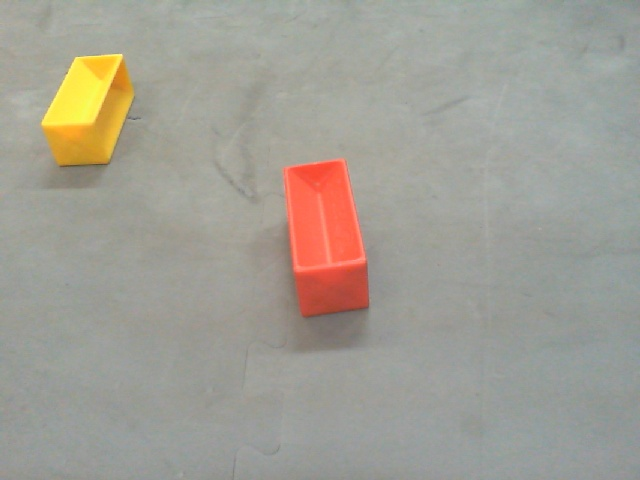RedSample: (284, 159, 372, 319)
YellowSample: (38, 53, 136, 167)
